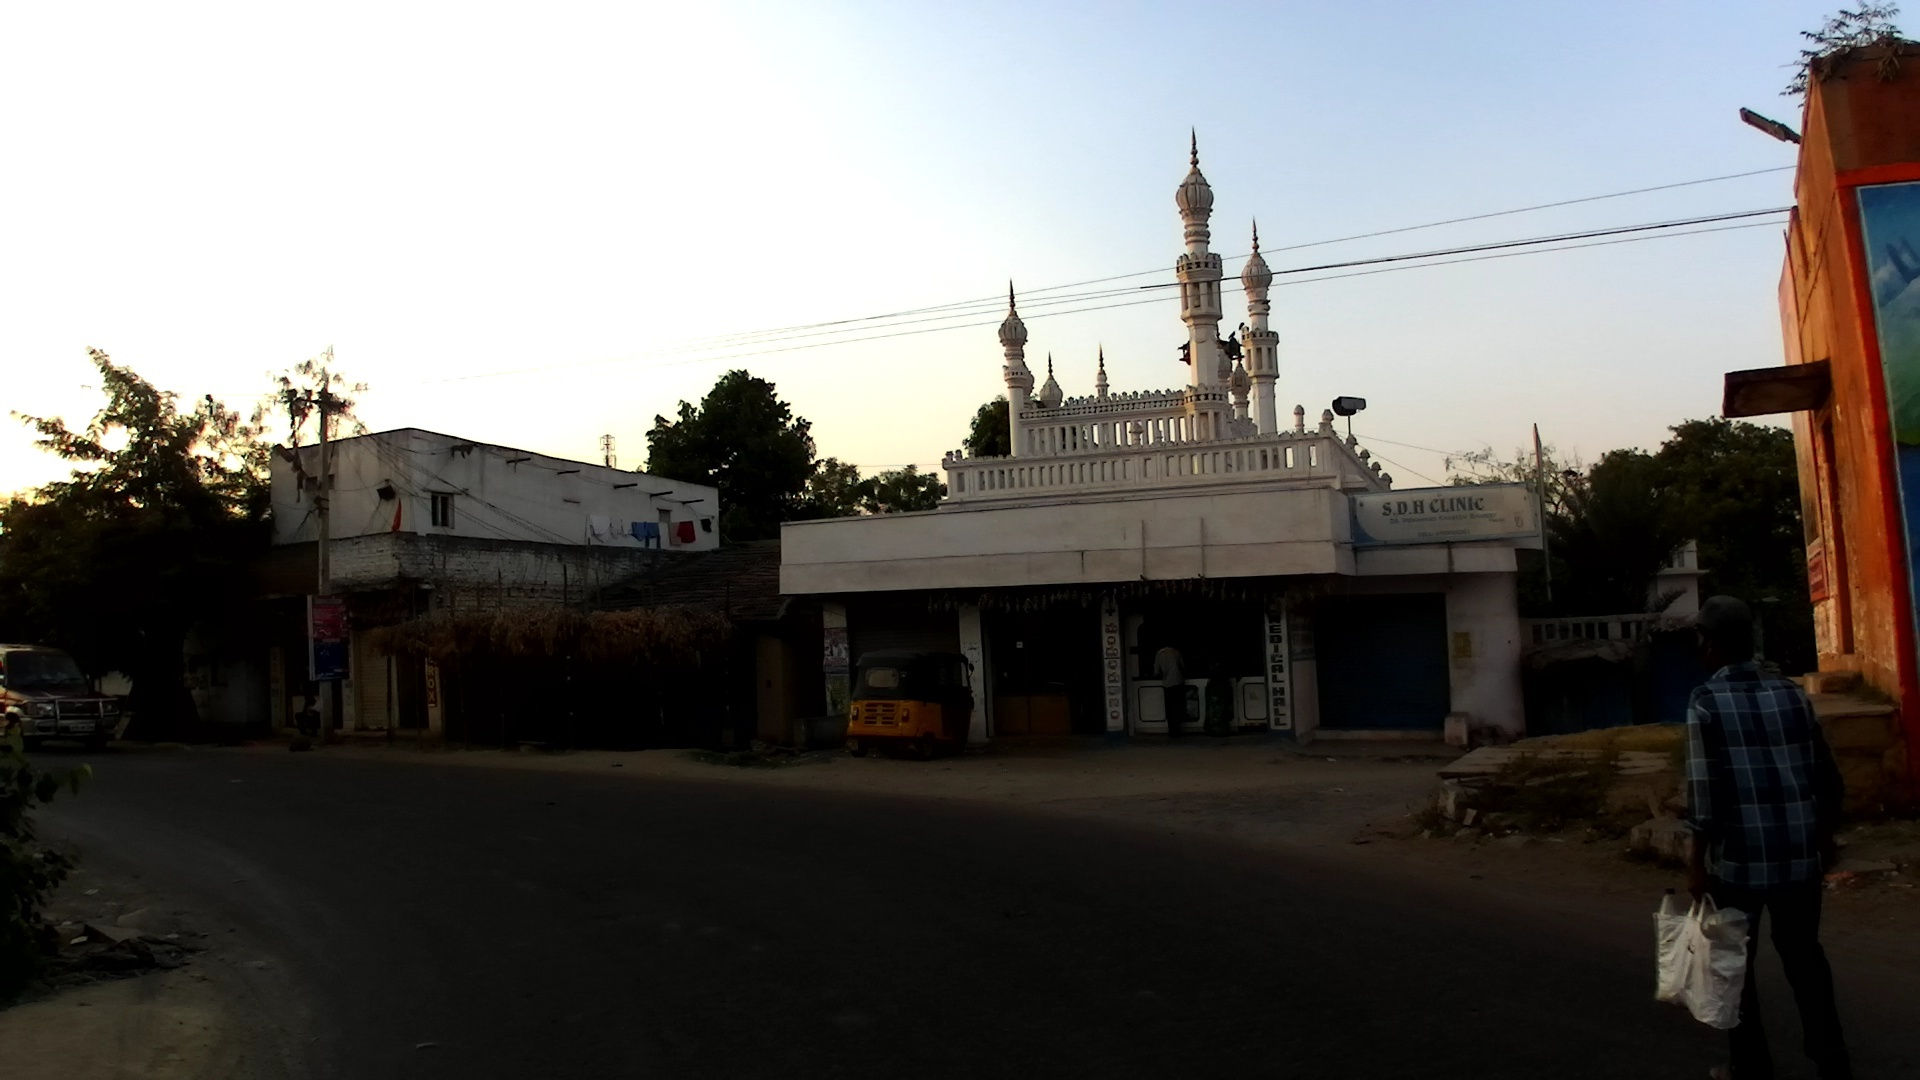autorickshaw: (849, 642, 978, 757)
car: (0, 640, 130, 750)
person: (1678, 599, 1852, 1076), (1152, 635, 1192, 738)
truck: (1721, 1, 1920, 811)
